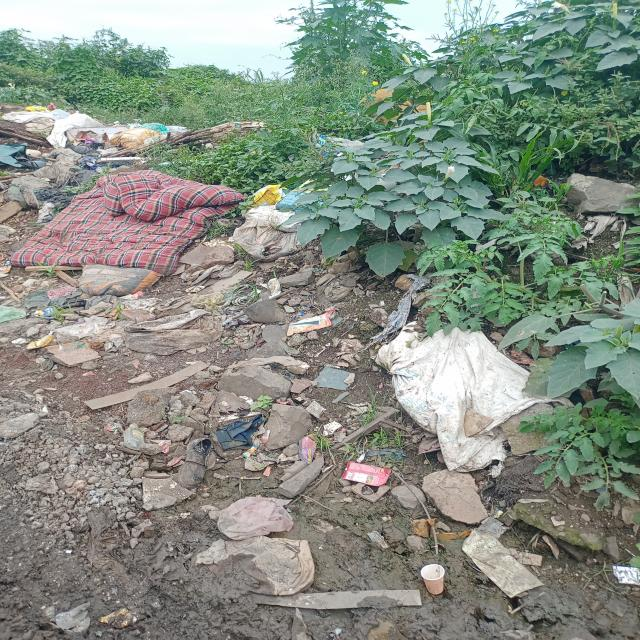garbage: (274, 316, 576, 540), (7, 102, 304, 306)
